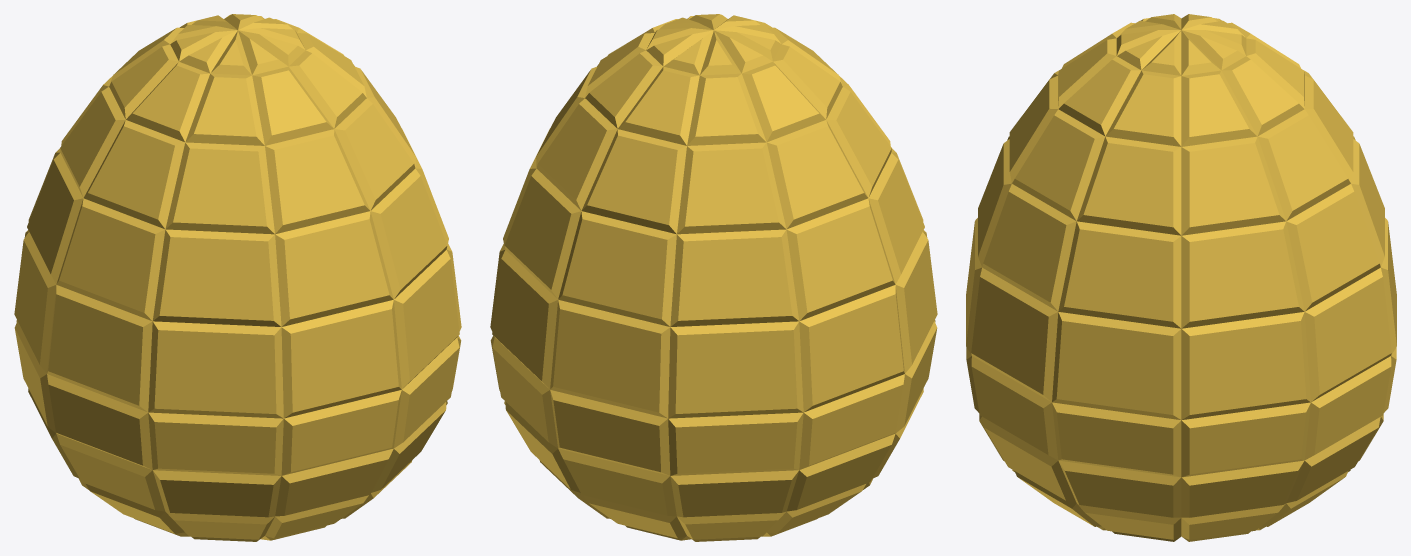
Rendered from GriffinEgg.fbx.
The picture shows the model from 3 angles, left to right: view 1: azimuth 30°, elevation 25°; view 2: azimuth 150°, elevation 25°; view 3: azimuth 270°, elevation 25°; orthographic projection.
Parts seen in each view (by area): view 1: GriffinEgg; view 2: GriffinEgg; view 3: GriffinEgg.
Boxes of the visible parts, x1,y1,x2,y2 form: GriffinEgg: (14,14,461,541); GriffinEgg: (490,14,937,541); GriffinEgg: (966,14,1396,541).
Bounding box in the file's own units: 102 × 122 × 97.77.
